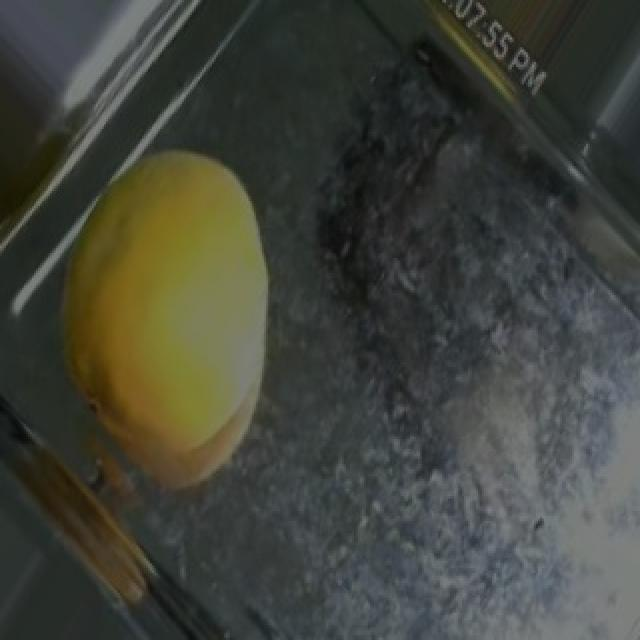fruit: (12, 107, 370, 521), (402, 0, 638, 104)
